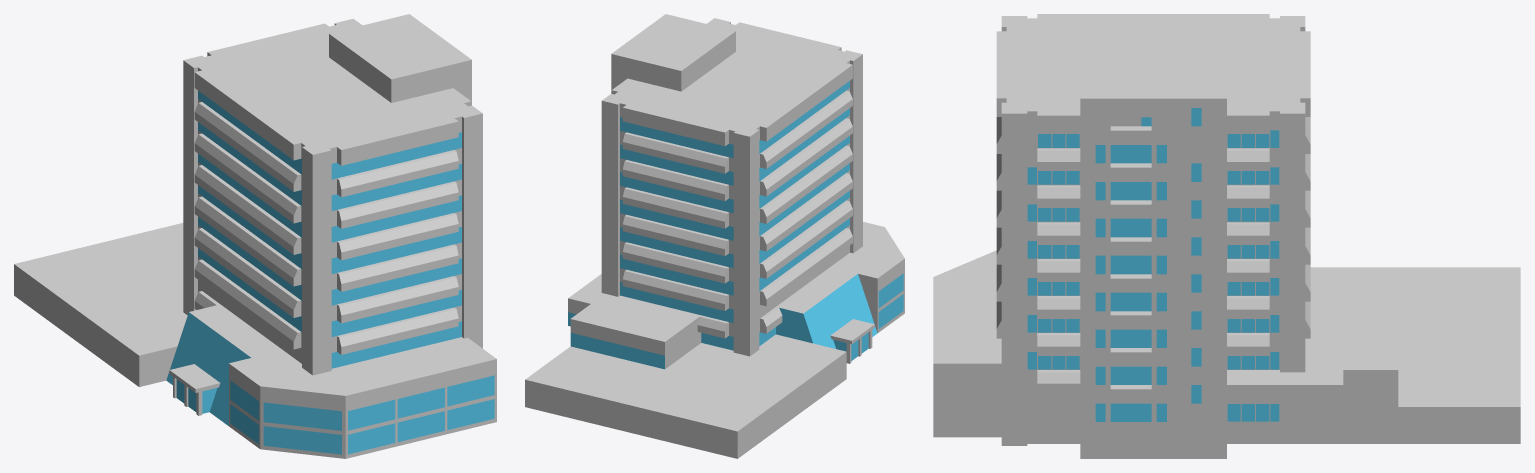
The model's file is SaeBit.glb.
3 views of the same model, side by side, from view 1: azimuth 30°, elevation 25°; view 2: azimuth 150°, elevation 25°; view 3: azimuth 270°, elevation 25° (orthographic). The views are drawn at different scales.
Visible parts, largest first — view 1: Main, Windows; view 2: Main, Windows; view 3: Main, Windows.
Boxes of the visible parts, left/top/right/bottom form: Main: left=14, top=14, right=496, bottom=458; Windows: left=166, top=90, right=494, bottom=454; Main: left=525, top=14, right=904, bottom=458; Windows: left=568, top=81, right=903, bottom=369; Main: left=933, top=14, right=1520, bottom=458; Windows: left=1027, top=108, right=1279, bottom=421.
Size of the model in its own units: 36.9 by 39 by 57.6.
